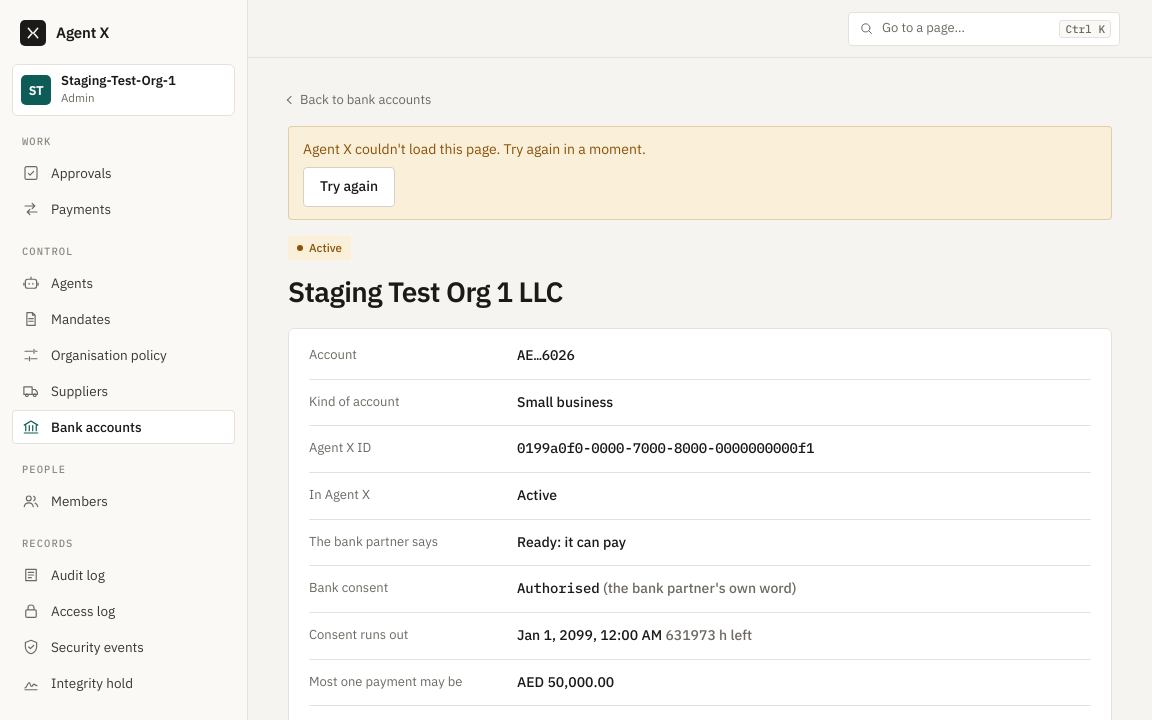
Scenario: a bank account’s page (6D4a) › keeps the account shown when a re-read fails otherwise, and offers to try again
Expected: the heading "Staging Test Org 1 LLC" is shown, x1=288 y1=273 x2=563 y2=310
Click the button "Try again".
click(349, 187)  # box x1=303 y1=167 x2=395 y2=207
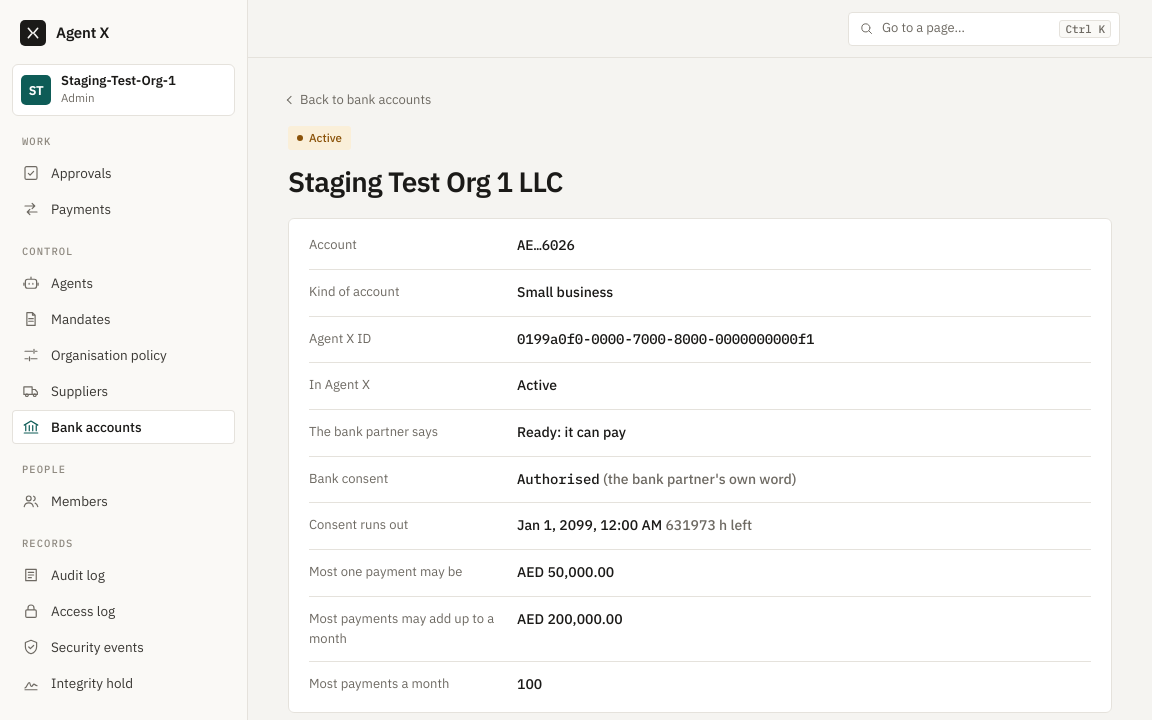
Expected: the heading "Staging Test Org 1 LLC" is shown, x1=288 y1=163 x2=563 y2=200
Expected: the text "Try again" is gone
